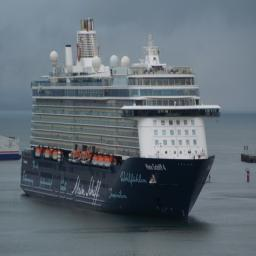cruises: (20, 19, 224, 224)
